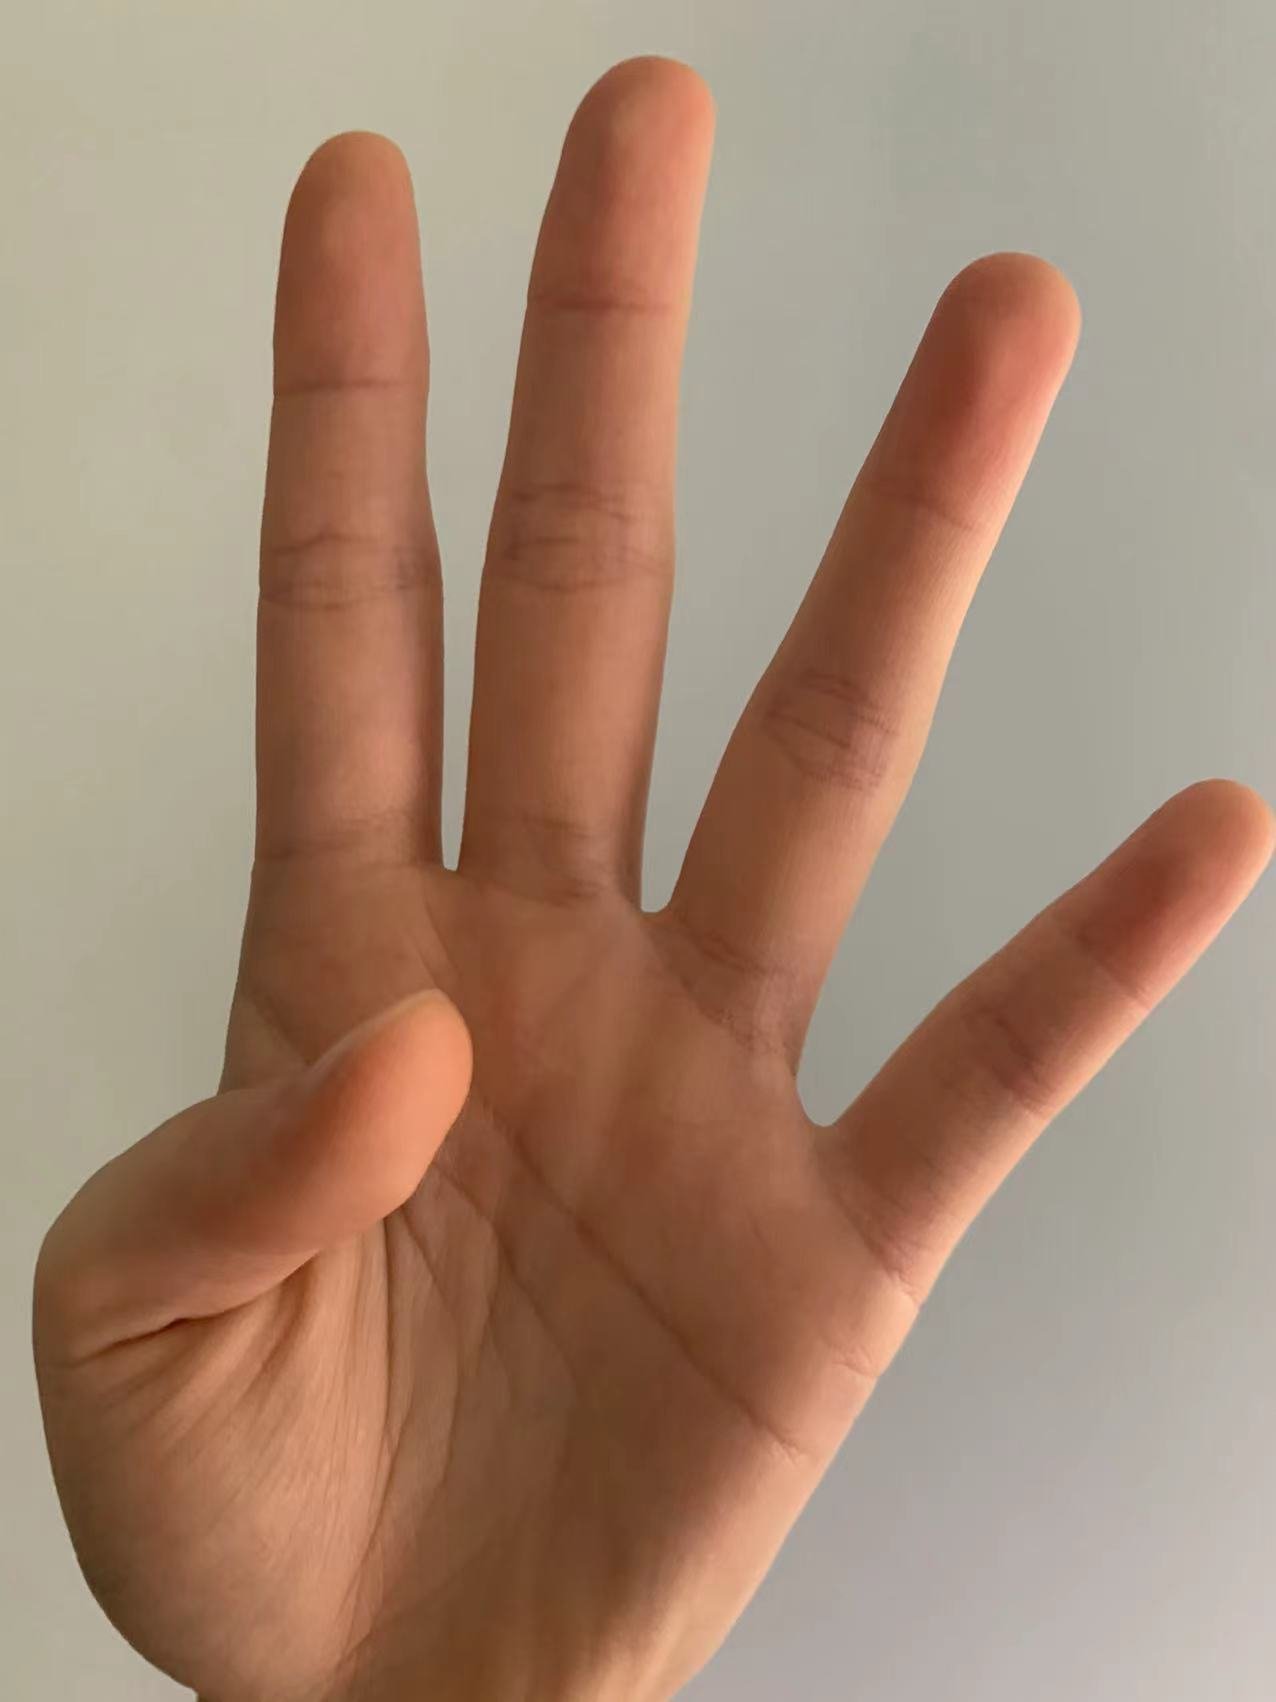right: (21, 54, 1276, 1677)
